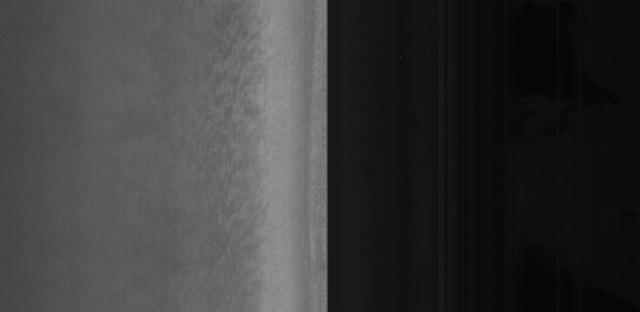silk_spot: (179, 59, 275, 240)
